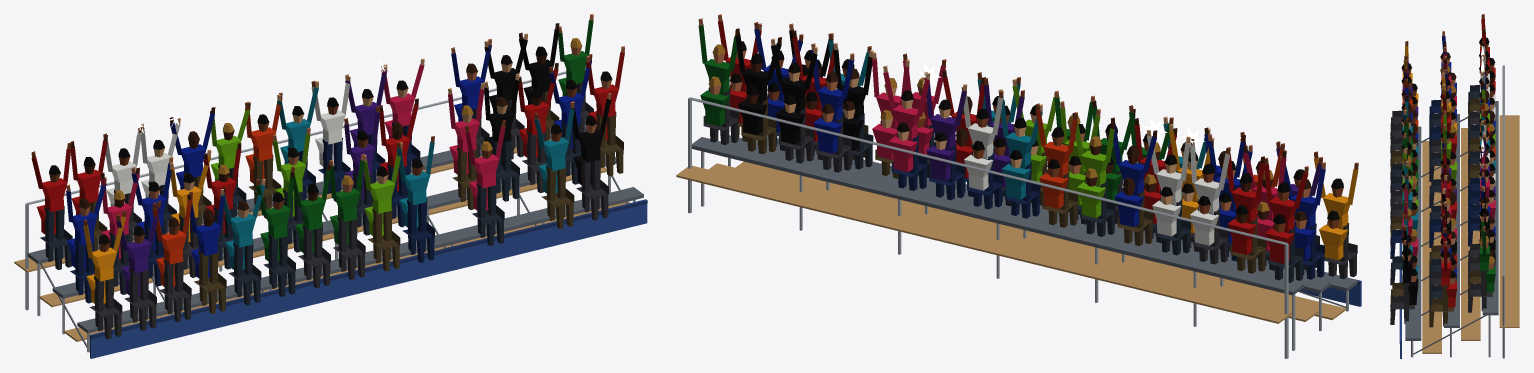
Rendered from crowd.glb.
The picture shows the model from 3 angles, left to right: view 1: azimuth 30°, elevation 25°; view 2: azimuth 150°, elevation 25°; view 3: azimuth 270°, elevation 25°; orthographic projection. The views are drawn at different scales.
Visible parts, largest first — view 1: Benches, Standing.000, Standing.001, Standing.002, Standing.003, Seated.000, Seated.001, Seated.002, Seated.003, Standing.105, Standing.104, Standing.103 (+4 smaller); view 2: Benches, Standing.000, Standing.003, Standing.001, Standing.002, Seated.000, Seated.003, Seated.001, Seated.002, Standing.104, Standing.100, Standing.102 (+7 smaller); view 3: Benches, Seated.002, Seated.001, Seated.000, Seated.003, Standing.003, Standing.002, Standing.001, Standing.000, Standing.105, Standing.103, Seated.105 (+9 smaller).
Boxes of the visible parts, x1,y1,x2,y2 form: Benches: [14, 71, 647, 358]; Standing.000: [31, 135, 225, 331]; Standing.001: [169, 81, 364, 297]; Standing.002: [311, 58, 505, 263]; Standing.003: [451, 23, 624, 220]; Seated.000: [37, 196, 226, 339]; Seated.001: [176, 145, 365, 305]; Seated.002: [315, 120, 504, 271]; Seated.003: [454, 86, 623, 228]; Standing.105: [570, 93, 611, 212]; Standing.104: [245, 92, 282, 210]; Standing.103: [558, 14, 593, 131]; Benches: [676, 97, 1361, 358]; Standing.000: [1169, 124, 1358, 282]; Standing.003: [718, 14, 873, 172]; Standing.001: [998, 89, 1210, 246]; Standing.002: [872, 52, 1055, 209]; Seated.000: [1181, 183, 1357, 280]; Seated.003: [729, 73, 873, 170]; Seated.001: [1001, 150, 1182, 243]; Seated.002: [872, 110, 1047, 207]; Standing.104: [1035, 103, 1077, 227]; Standing.100: [1190, 139, 1230, 264]; Standing.102: [1146, 130, 1190, 255]; Benches: [1399, 65, 1519, 358]; Seated.002: [1390, 163, 1495, 285]; Seated.001: [1390, 110, 1495, 231]; Seated.000: [1390, 57, 1495, 179]; Seated.003: [1390, 216, 1495, 327]; Standing.003: [1401, 172, 1489, 326]; Standing.002: [1401, 120, 1489, 244]; Standing.001: [1401, 67, 1489, 191]; Standing.000: [1401, 14, 1489, 138]; Standing.105: [1401, 225, 1412, 323]; Standing.103: [1479, 217, 1489, 311]; Seated.105: [1390, 268, 1418, 324].
Bounding box in the file's own units: 10.85 × 3.25 × 2.73.
8 materials, 1 textured.
